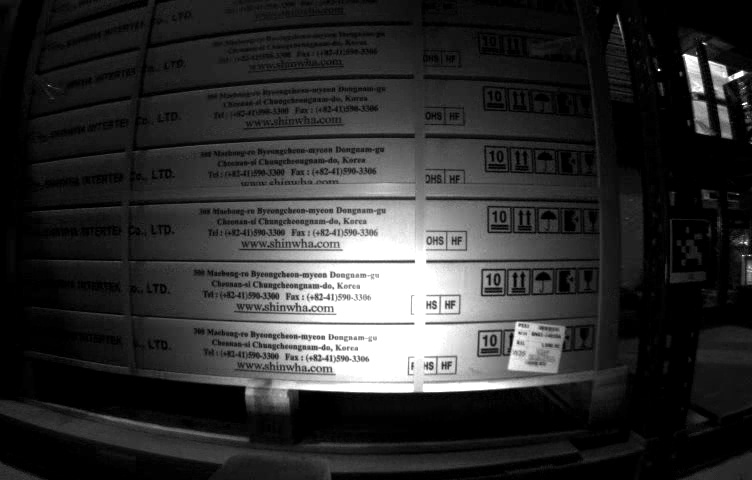True Barcode: (506, 317, 567, 378)
